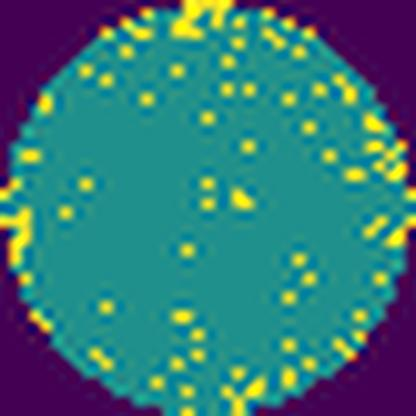Edge-Loc: (164, 0, 235, 45)
